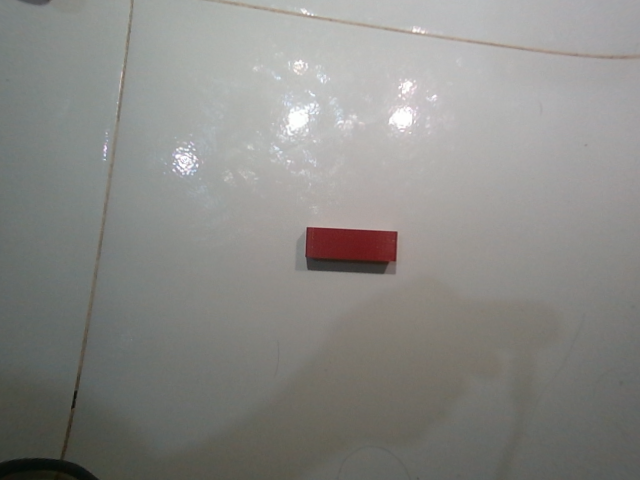Balok-Merah-Marun: (304, 225, 400, 270)
